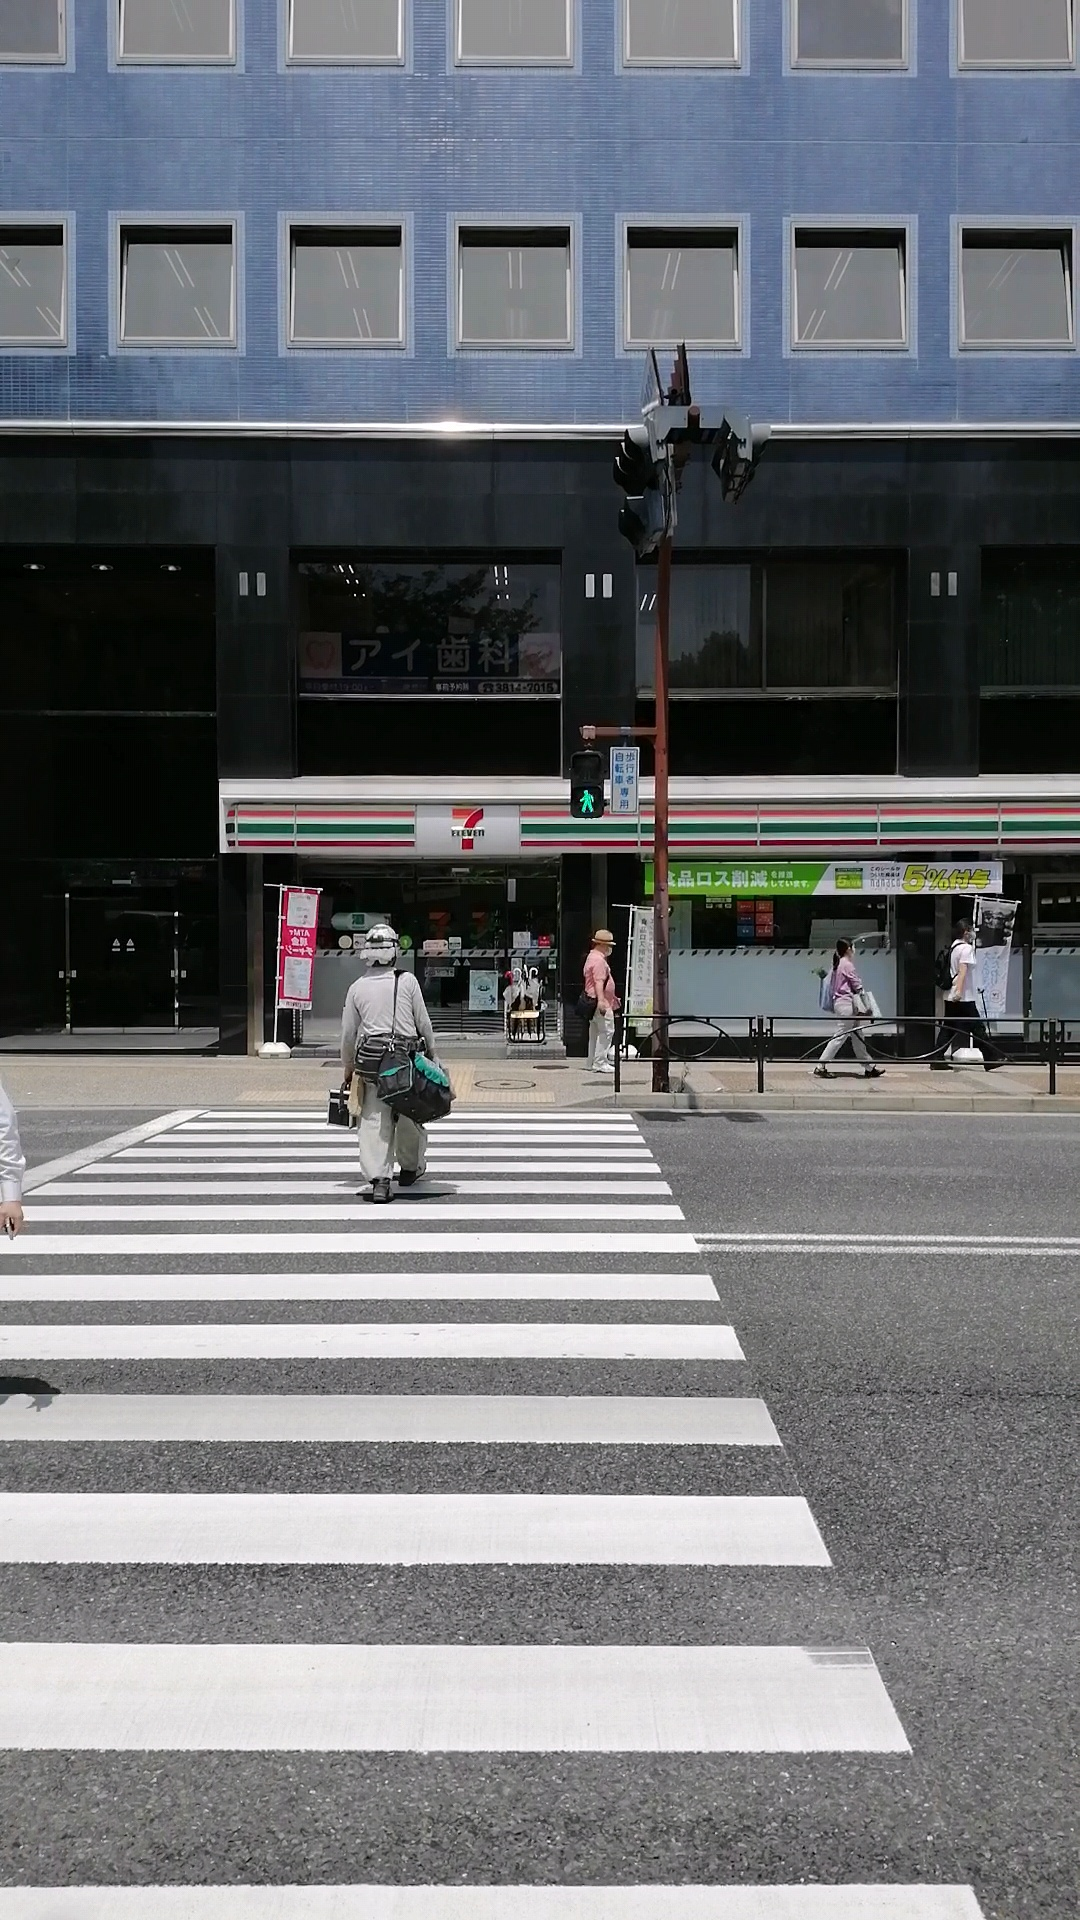green: (570, 746, 604, 819)
